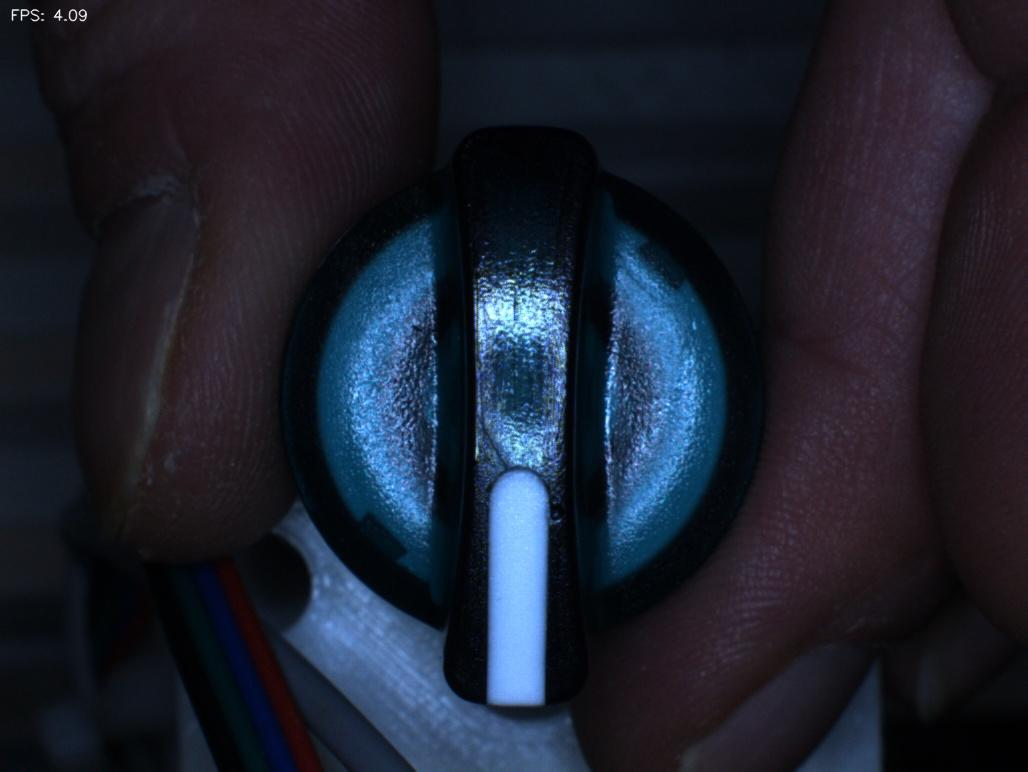Choc: (510, 457, 601, 554)
